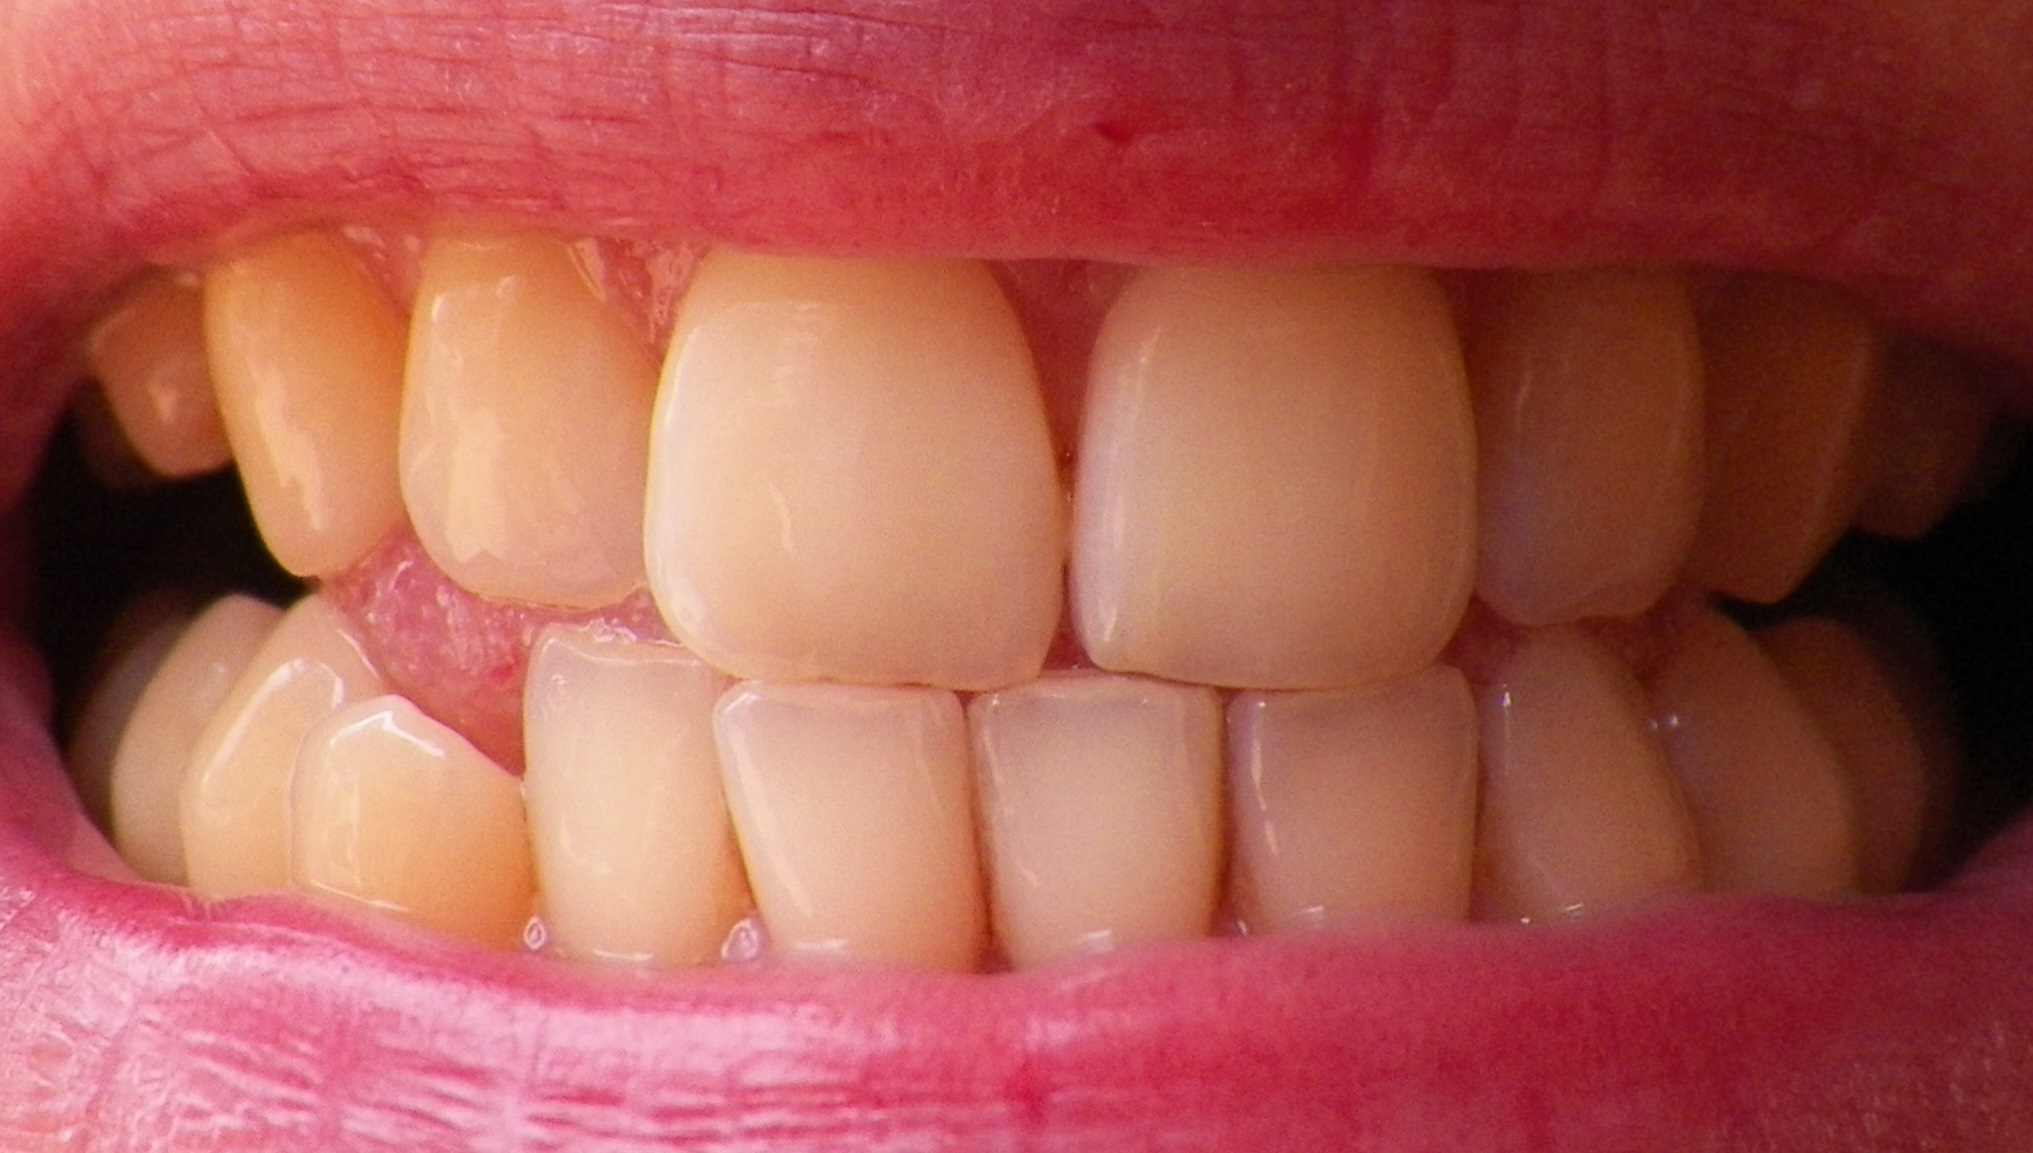boca: (84, 221, 1951, 973)
